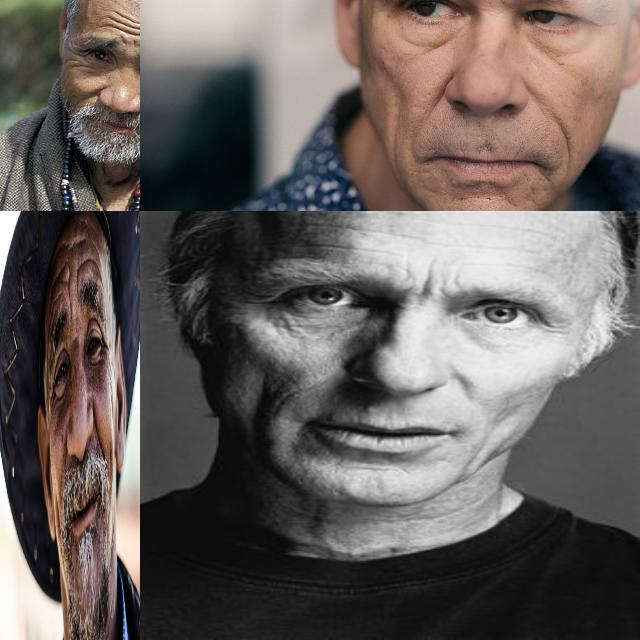crows_feet: (538, 314, 569, 335), (69, 48, 85, 72), (48, 379, 57, 413), (100, 330, 108, 363)
forehead: (295, 217, 415, 259), (473, 216, 555, 258), (105, 8, 140, 36), (72, 234, 86, 254), (56, 257, 67, 280), (52, 290, 64, 308), (80, 252, 92, 268)
frown_line: (407, 266, 453, 295), (120, 36, 140, 49), (68, 278, 72, 318), (75, 264, 79, 296)
gummy_smile: (522, 84, 576, 146), (337, 460, 415, 477), (429, 68, 455, 118), (270, 382, 307, 417), (448, 366, 477, 398), (94, 412, 106, 455), (82, 85, 102, 99), (64, 437, 67, 477)
masseter: (388, 114, 404, 176), (56, 497, 61, 540), (108, 437, 112, 481)
